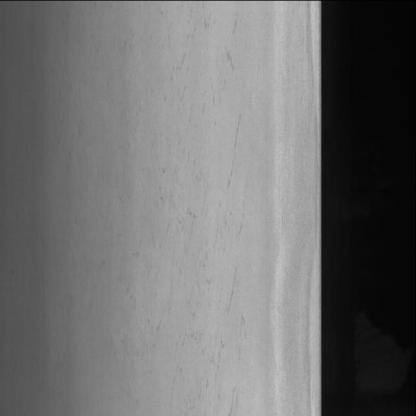silk_spot: (126, 15, 263, 416)
